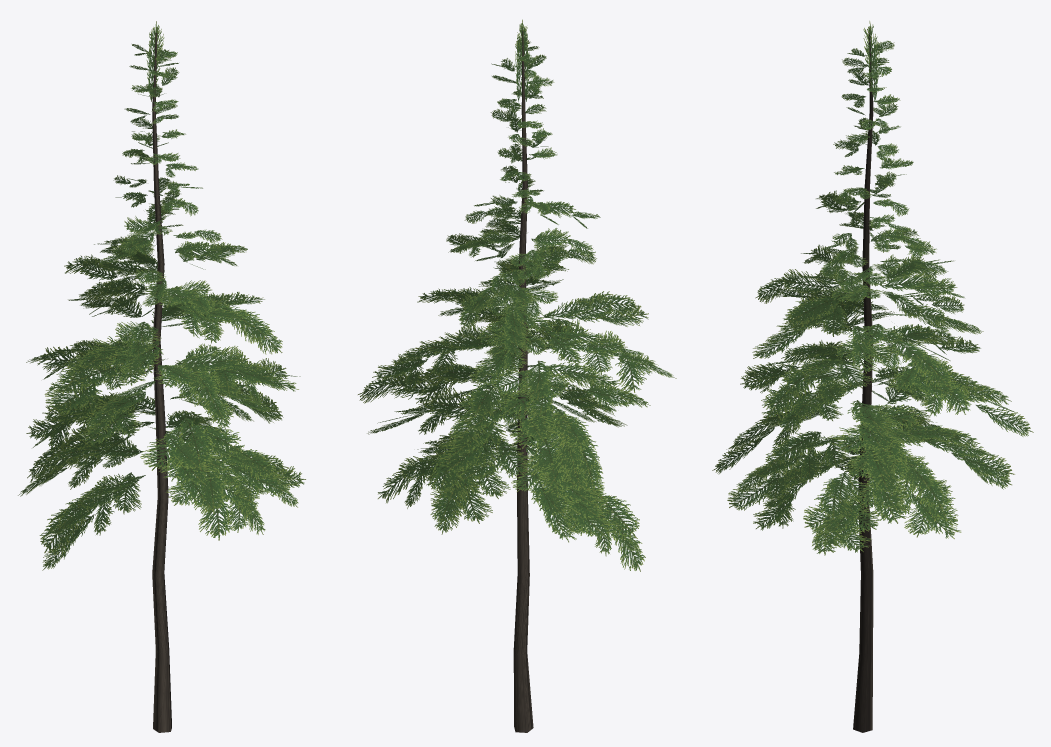
File: mid.glb
3 views of the same model, side by side, from view 1: azimuth 30°, elevation 25°; view 2: azimuth 150°, elevation 25°; view 3: azimuth 270°, elevation 25° (orthographic).
Parts seen in each view (by area): view 1: spruce_01; view 2: spruce_01; view 3: spruce_01.
Boxes of the visible parts, <box> form: spruce_01: <box>18,21,305,732</box>; spruce_01: <box>358,19,676,732</box>; spruce_01: <box>712,21,1033,732</box>.
Size of the model in its own units: 7.26 by 16.35 by 6.84.
Materials: 2 (2 with a texture image).
